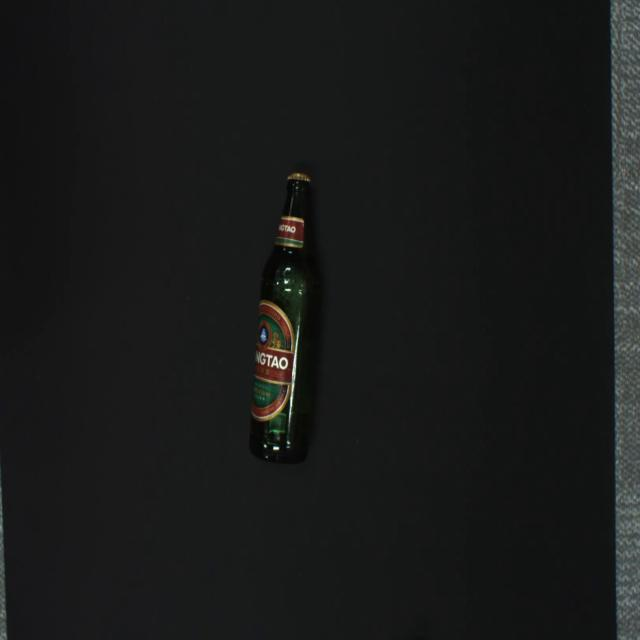beer-bottle: (249, 171, 322, 465)
